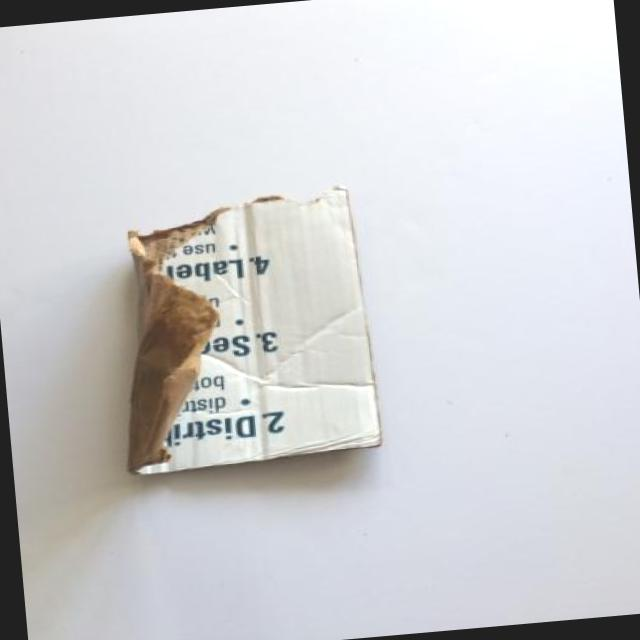cardboard: (129, 190, 379, 474)
paper: (131, 190, 379, 474)
